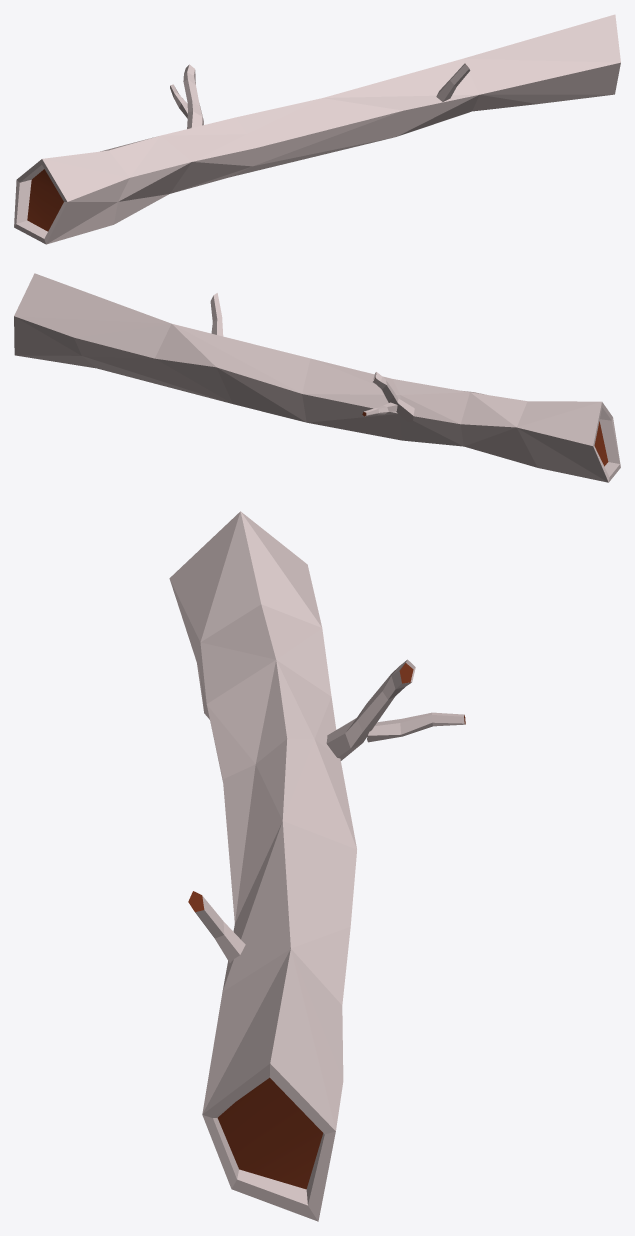
File: BirchTreeTrunk_001.FBX
The picture shows the model from 3 angles, top to bottom: view 1: azimuth 30°, elevation 25°; view 2: azimuth 150°, elevation 25°; view 3: azimuth 270°, elevation 25°; orthographic projection. The views are drawn at different scales.
Parts seen in each view (by area): view 1: BirchTrunk_001, Branch_003, Branch_005; view 2: BirchTrunk_001, Branch_003, Branch_005; view 3: BirchTrunk_001, Branch_003, Branch_004, Branch_005.
Boxes of the visible parts, x1=… form: BirchTrunk_001: x1=14, y1=14, x2=620, y2=244; Branch_003: x1=183, y1=64, x2=203, y2=128; Branch_005: x1=436, y1=63, x2=470, y2=101; BirchTrunk_001: x1=14, y1=273, x2=620, y2=482; Branch_003: x1=372, y1=372, x2=414, y2=421; Branch_005: x1=210, y1=293, x2=223, y2=336; BirchTrunk_001: x1=169, y1=511, x2=356, y2=1221; Branch_003: x1=326, y1=659, x2=415, y2=760; Branch_004: x1=367, y1=712, x2=465, y2=742; Branch_005: x1=188, y1=891, x2=245, y2=962.
Bounding box in the file's own units: 25.63 × 3.93 × 5.62.
